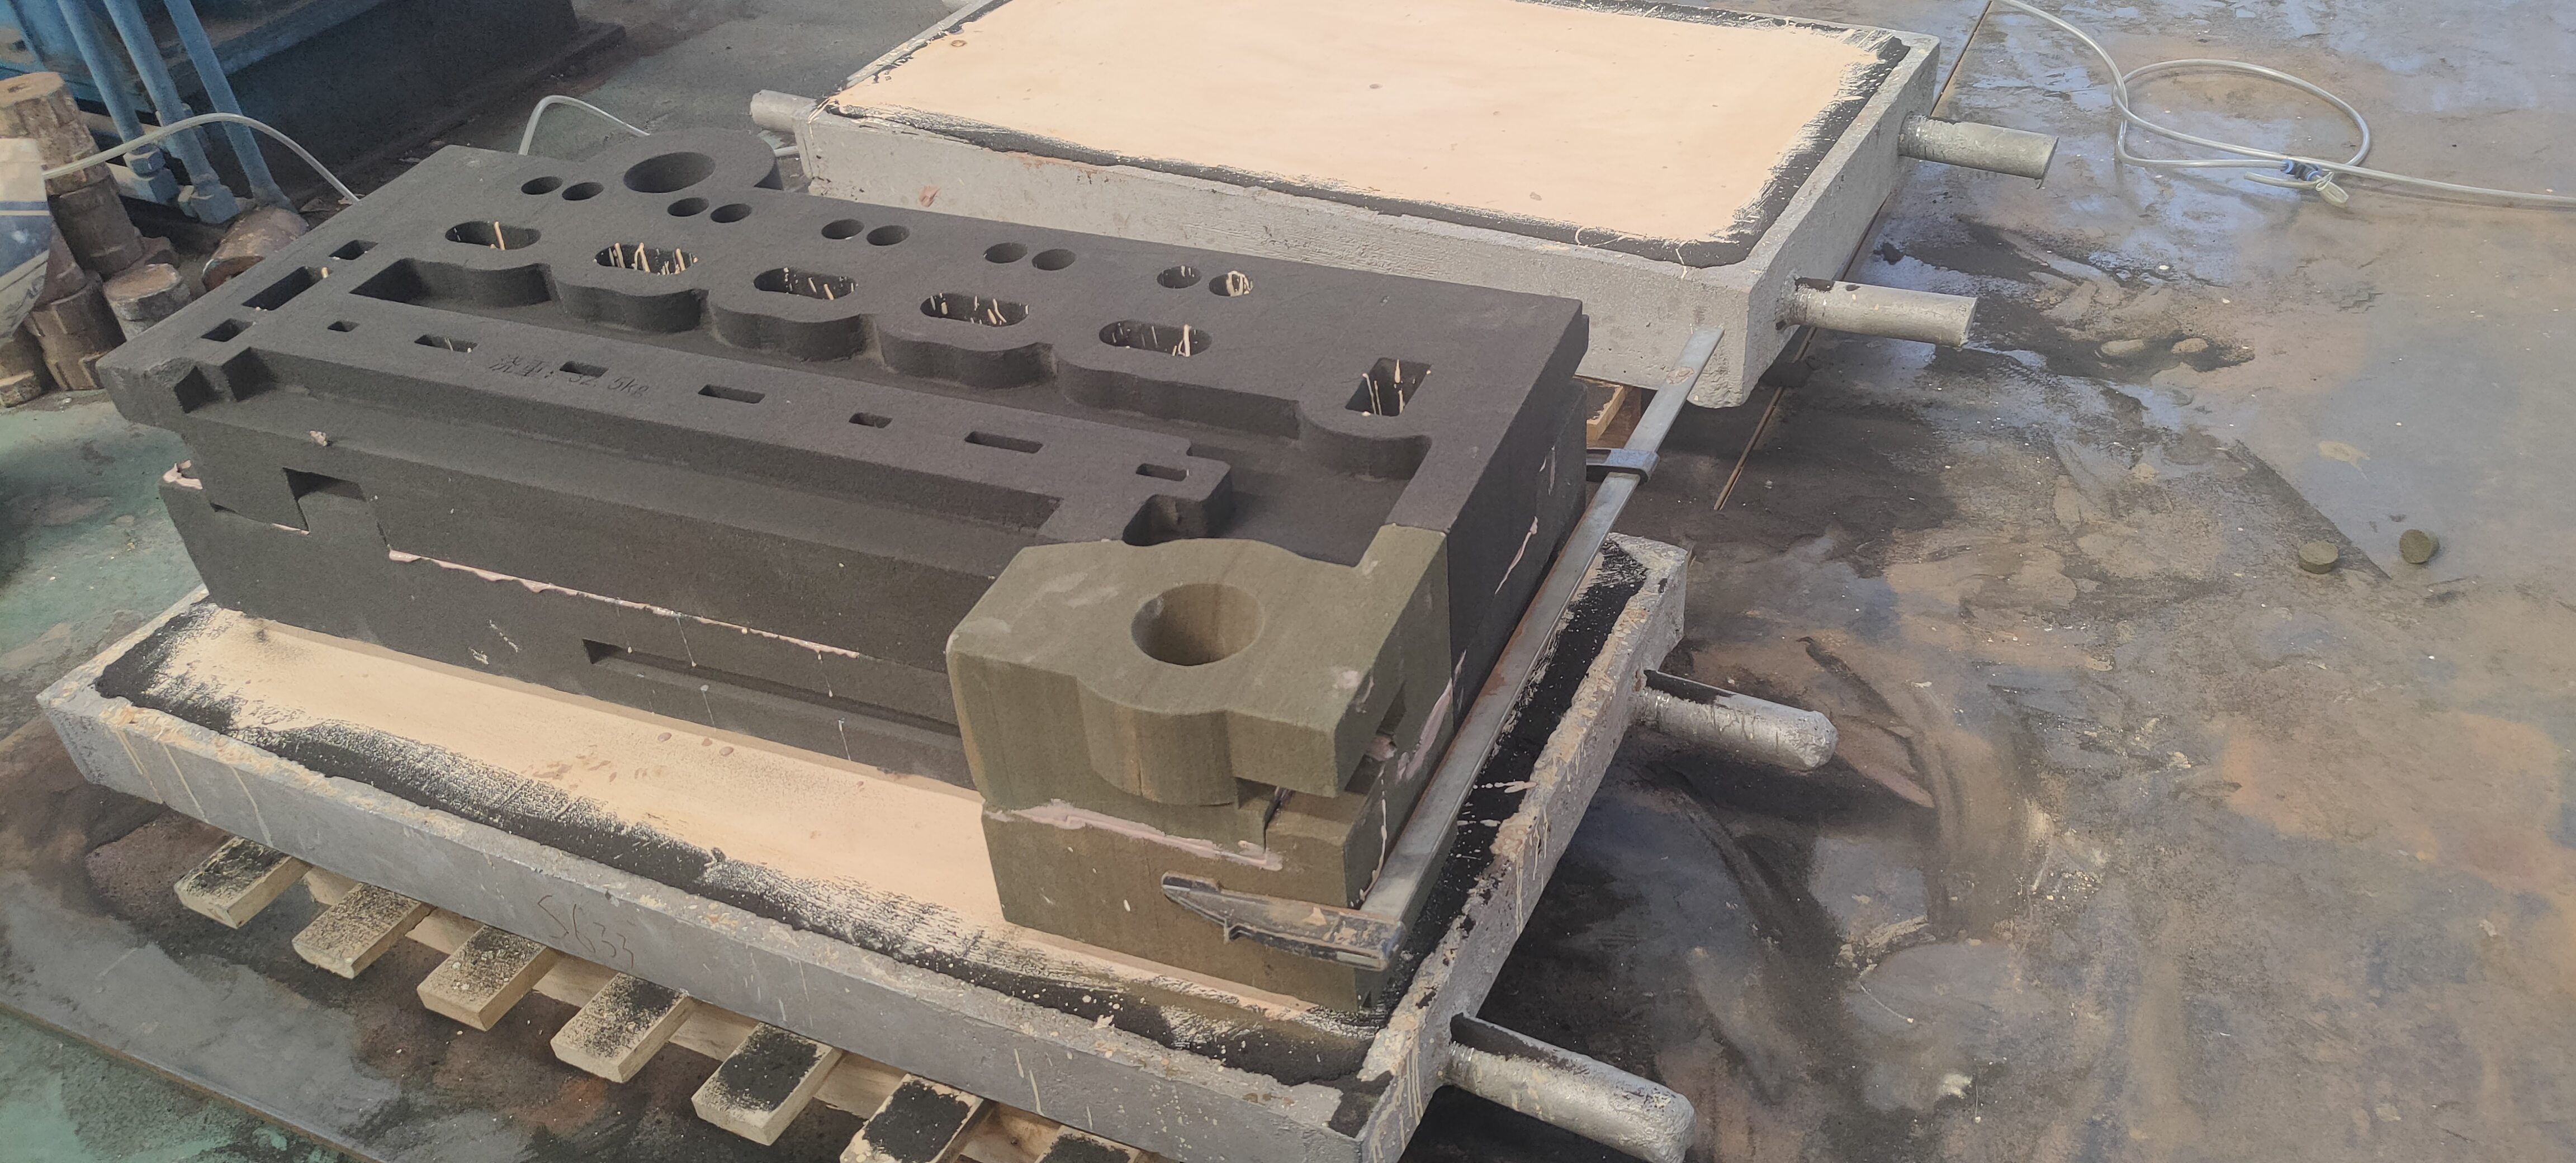pouring hole: (1132, 583, 1263, 667), (623, 151, 716, 192)
